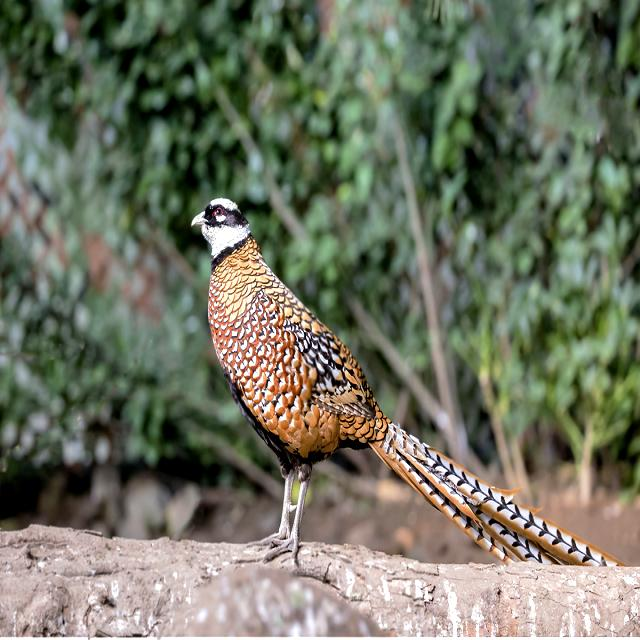Reeves-s Pheasant: (368, 416, 628, 566)
